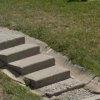stairs: (0, 32, 84, 97)
